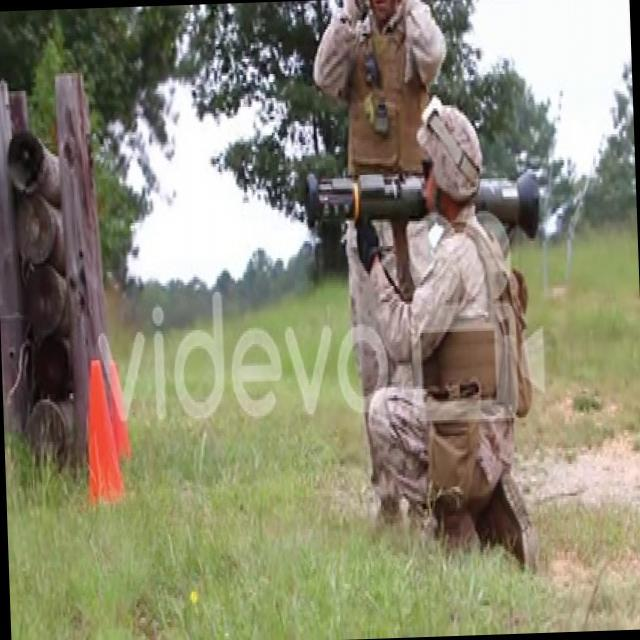rocket: (306, 162, 539, 247)
